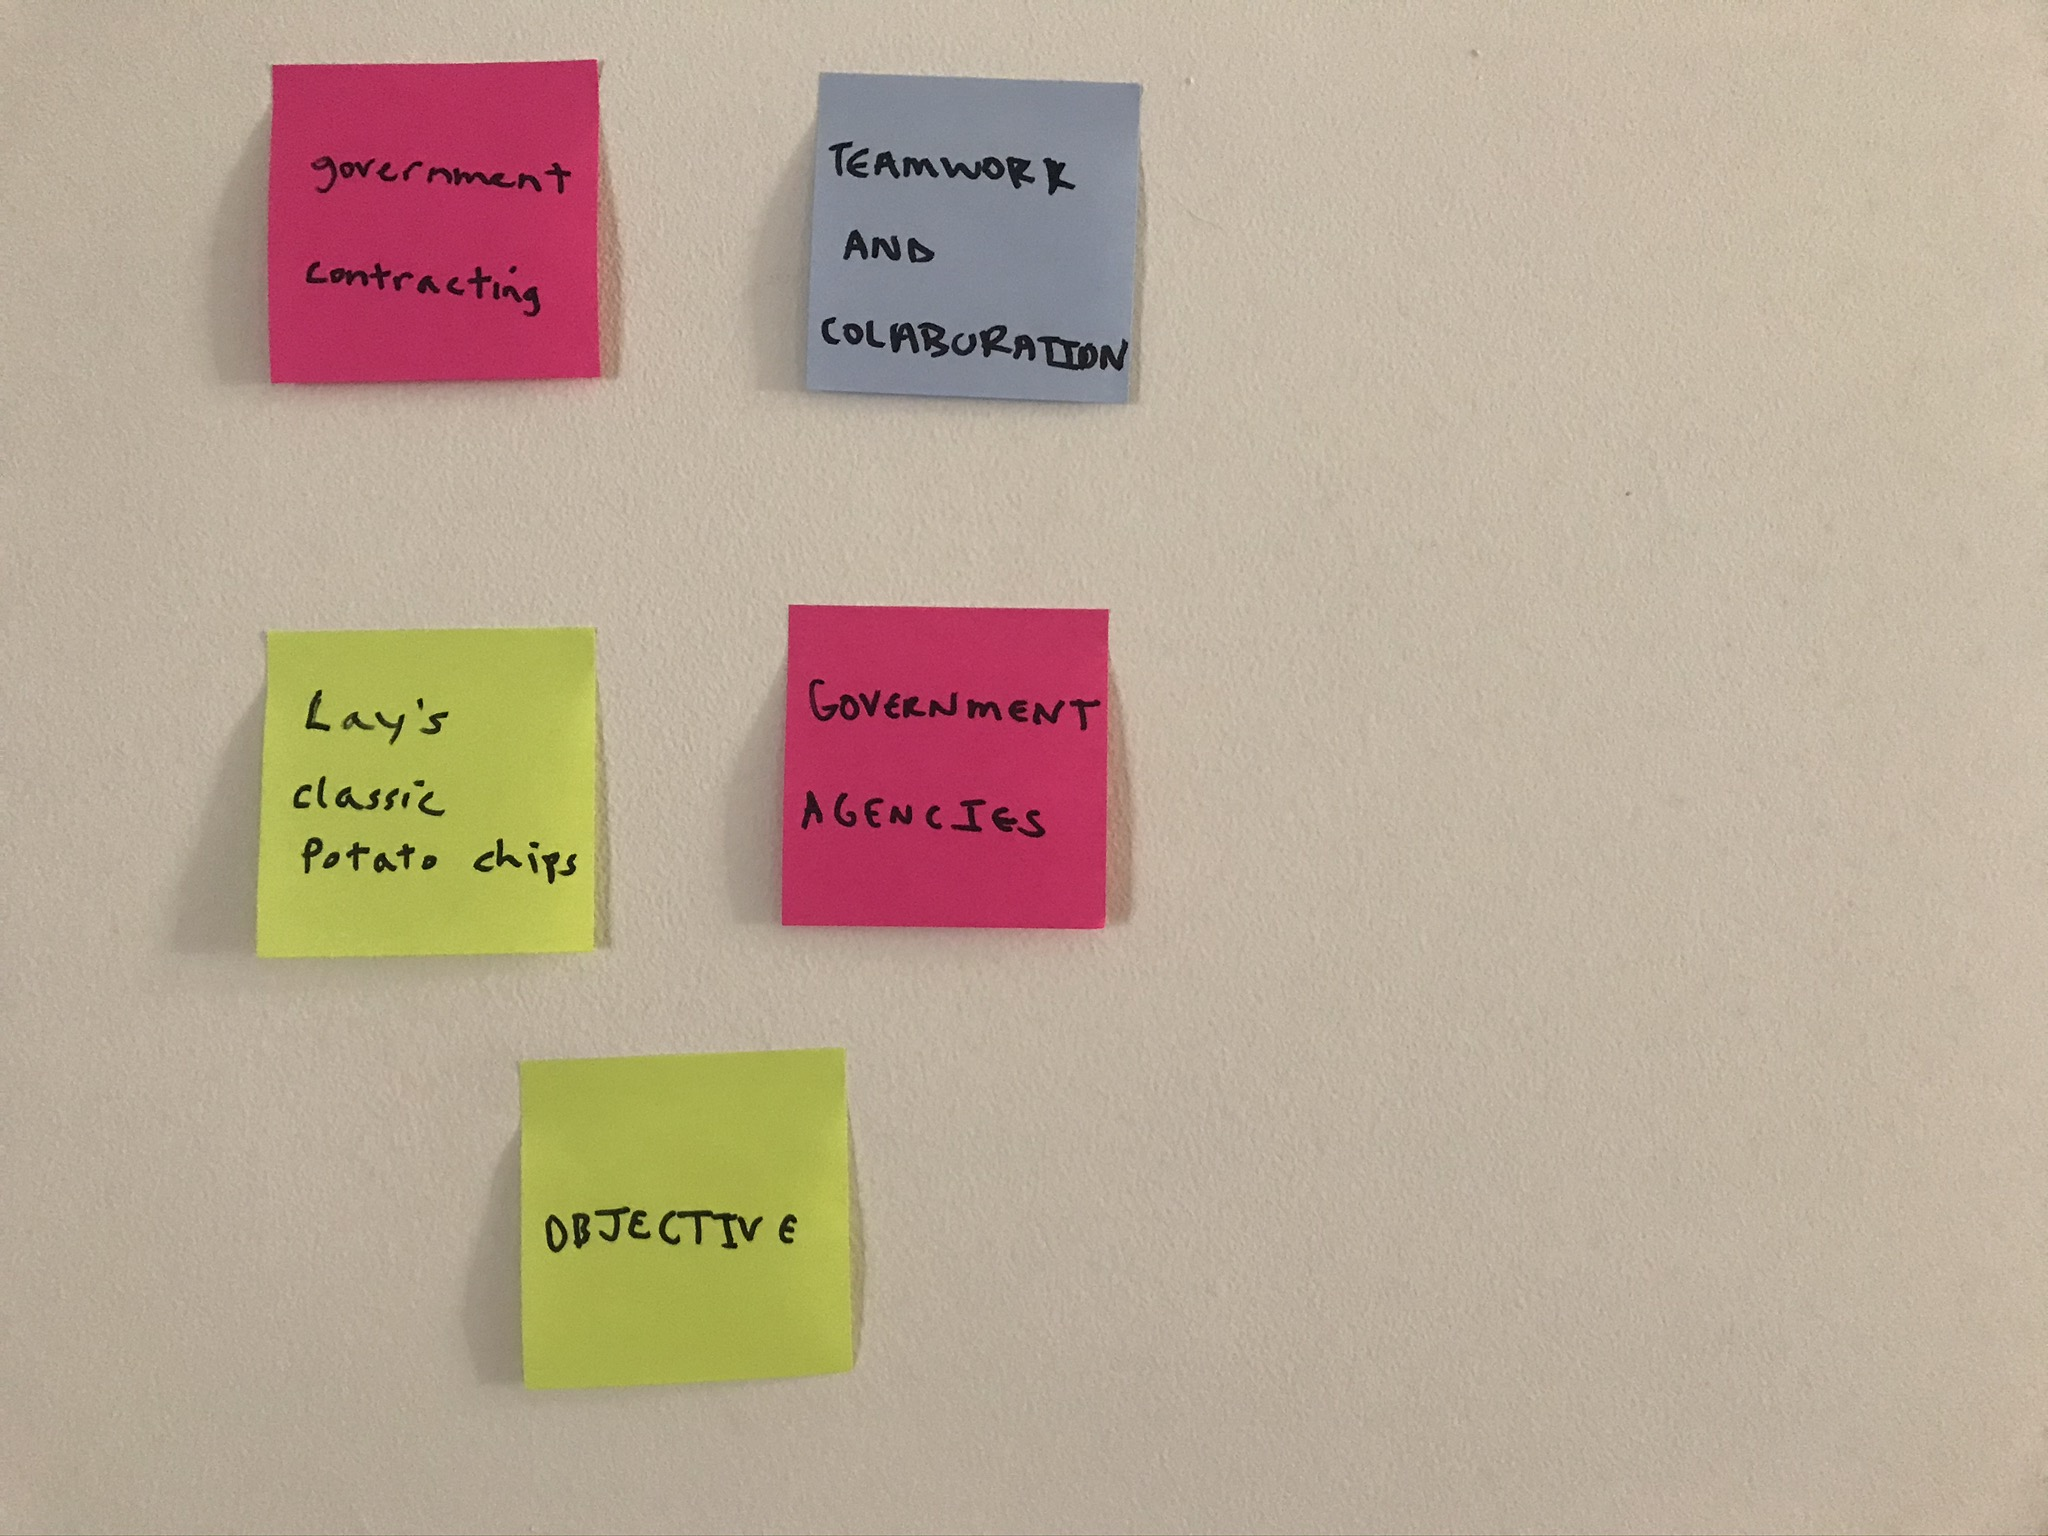sticky: (514, 1049, 858, 1389), (256, 628, 598, 958), (805, 69, 1142, 403), (784, 602, 1113, 929), (269, 61, 601, 386)
